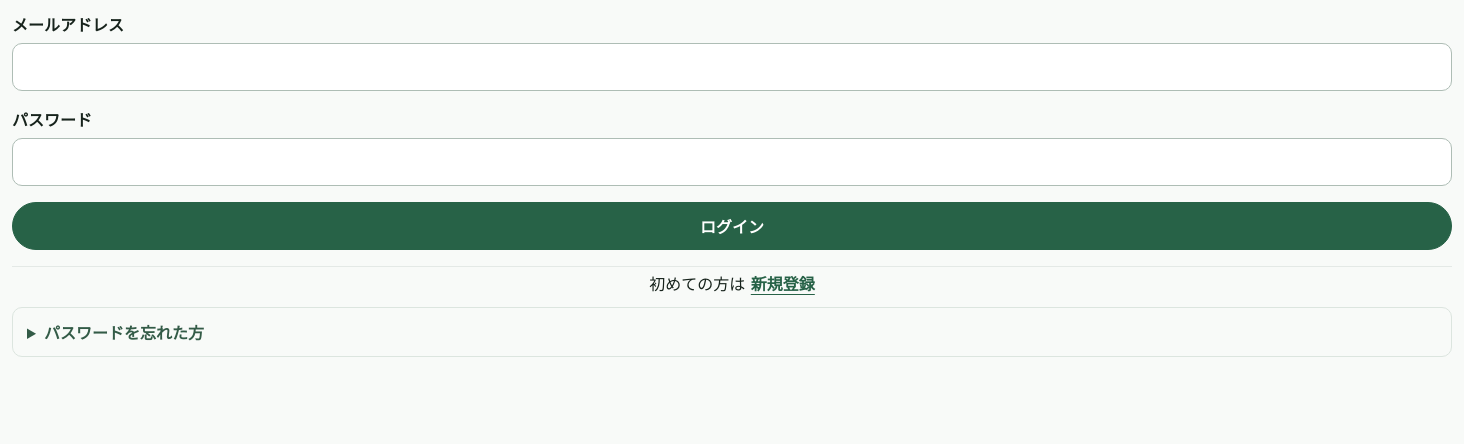
Test: LoginForm › shows a generic message for invalid credentials
Type "intern@example.com" into the field labelled "メールアドレス" at (732,67), box [12,43,1452,91]
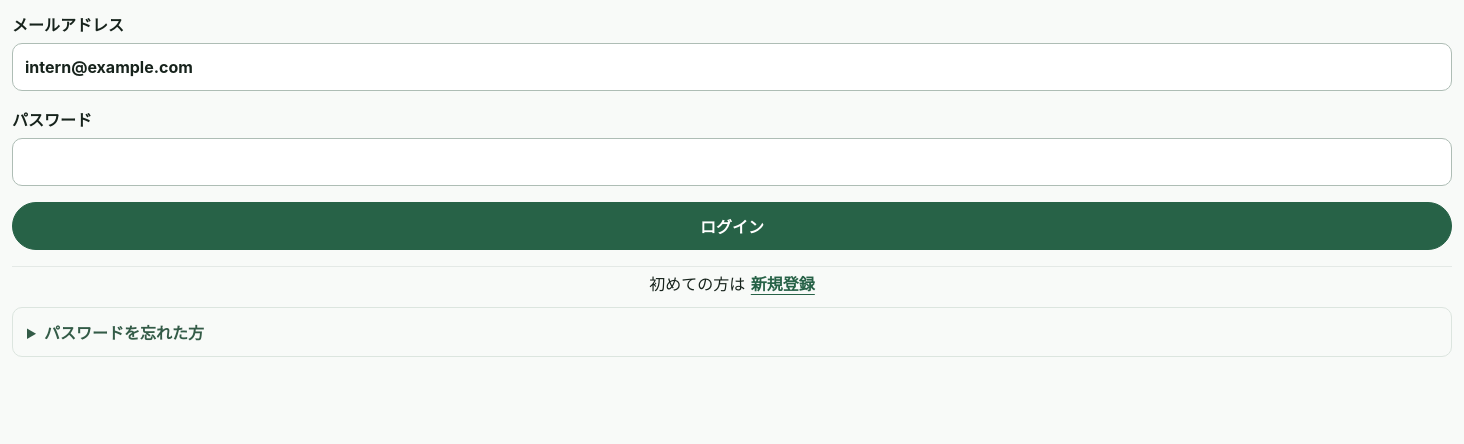
Type "password123" into the password field labelled "パスワード" at (732,162), box [12,138,1452,186]
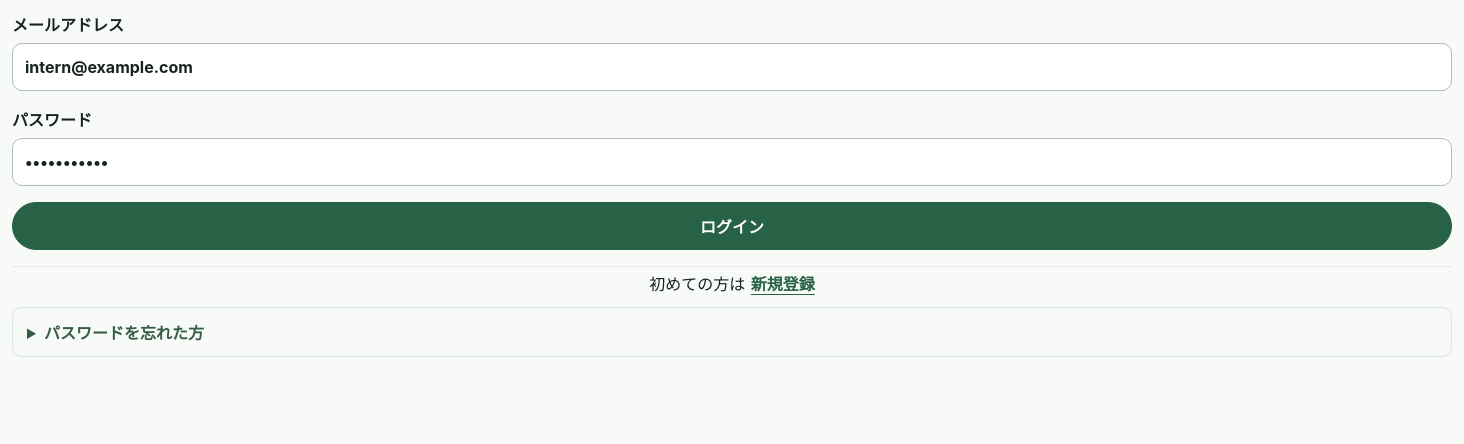
Click the button "ログイン" at (732,226), box [12,202,1452,250]
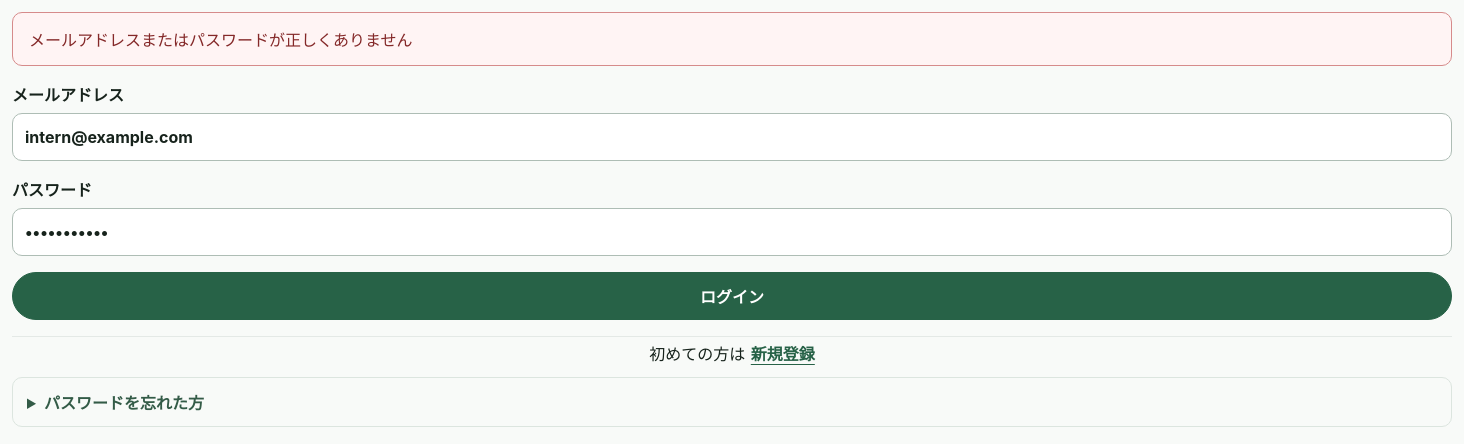
Expected: the link "新規登録" is shown, [751,344,815,364]
Expected: the text "メールアドレスまたはパスワードが正しくありません" is shown, [12,12,1452,66]
